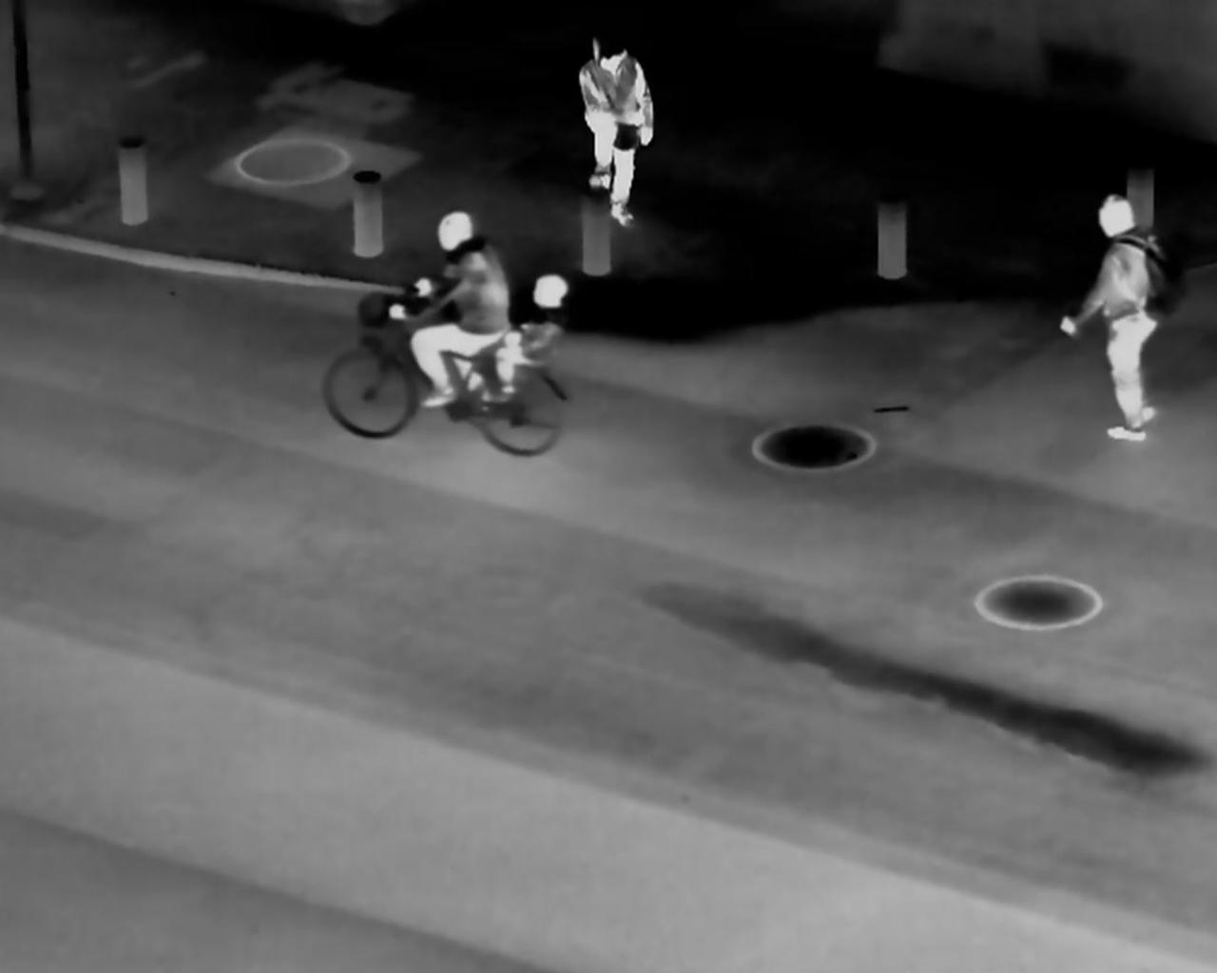person: (1065, 187, 1192, 454), (395, 199, 510, 425), (575, 27, 665, 227), (504, 259, 573, 411)
